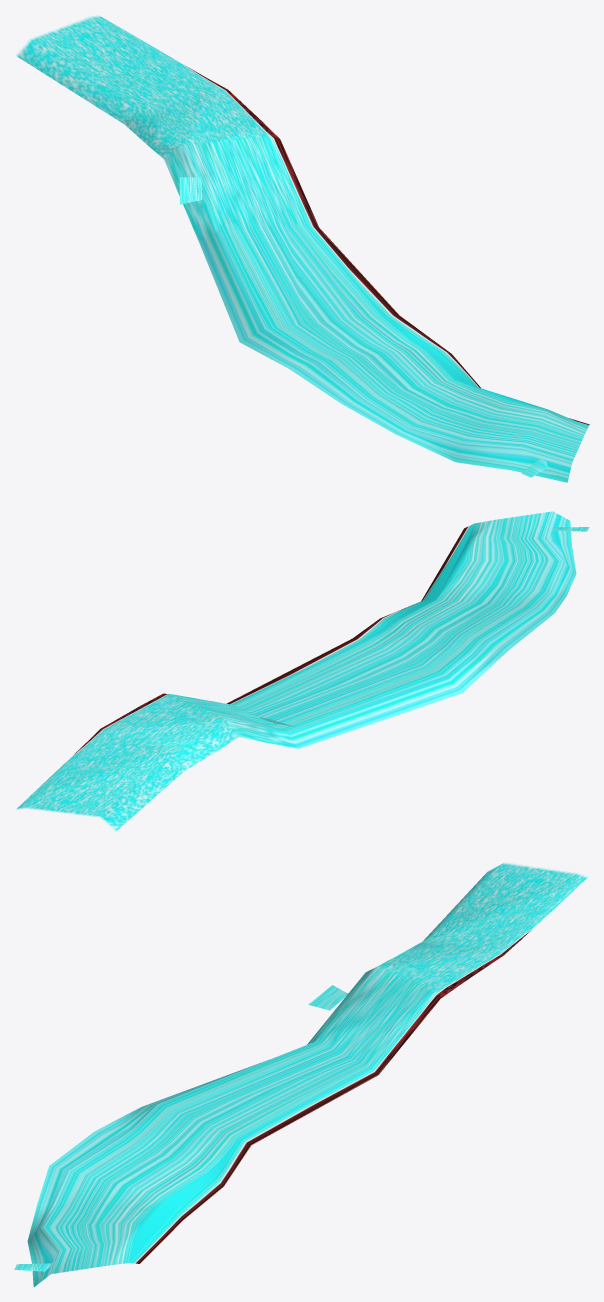
3 renders of one model, top to bottom at view 1: azimuth 30°, elevation 25°; view 2: azimuth 150°, elevation 25°; view 3: azimuth 330°, elevation 25°, orthographic. The views are drawn at different scales.
Parts seen in each view (by area): view 1: SM_VFX_BR_Stream02_LOD0; view 2: SM_VFX_BR_Stream02_LOD0; view 3: SM_VFX_BR_Stream02_LOD0.
Part boxes in pixels (box(x1,y1,x2,y2)): SM_VFX_BR_Stream02_LOD0: box(16, 15, 589, 482); SM_VFX_BR_Stream02_LOD0: box(16, 511, 589, 830); SM_VFX_BR_Stream02_LOD0: box(14, 862, 587, 1287).
Size of the model in its own units: 9.16 by 3.54 by 44.95.
1 material, 1 textured.
